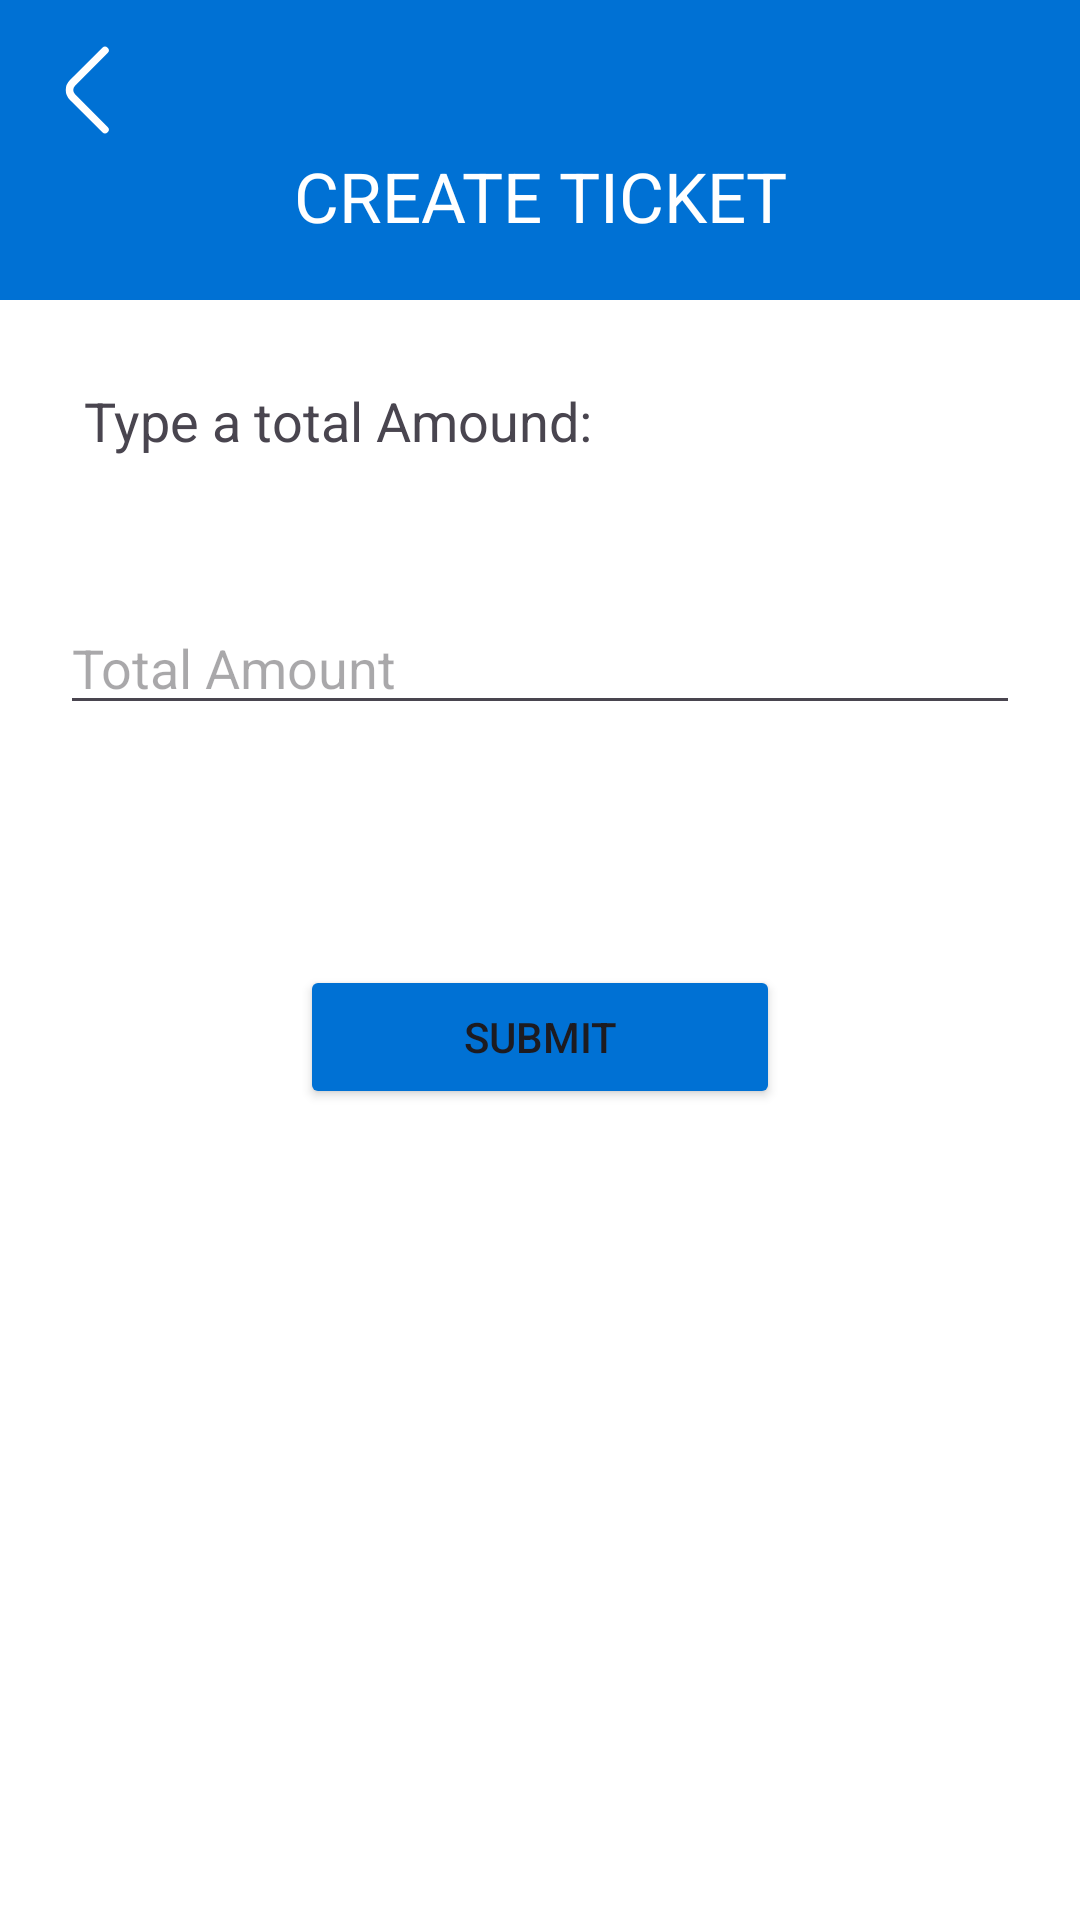

Icon bounding boxes for this 1080 × 1920 phone screenshot, format (x1, y1, x2, y2):
back: (65, 46, 109, 134)
